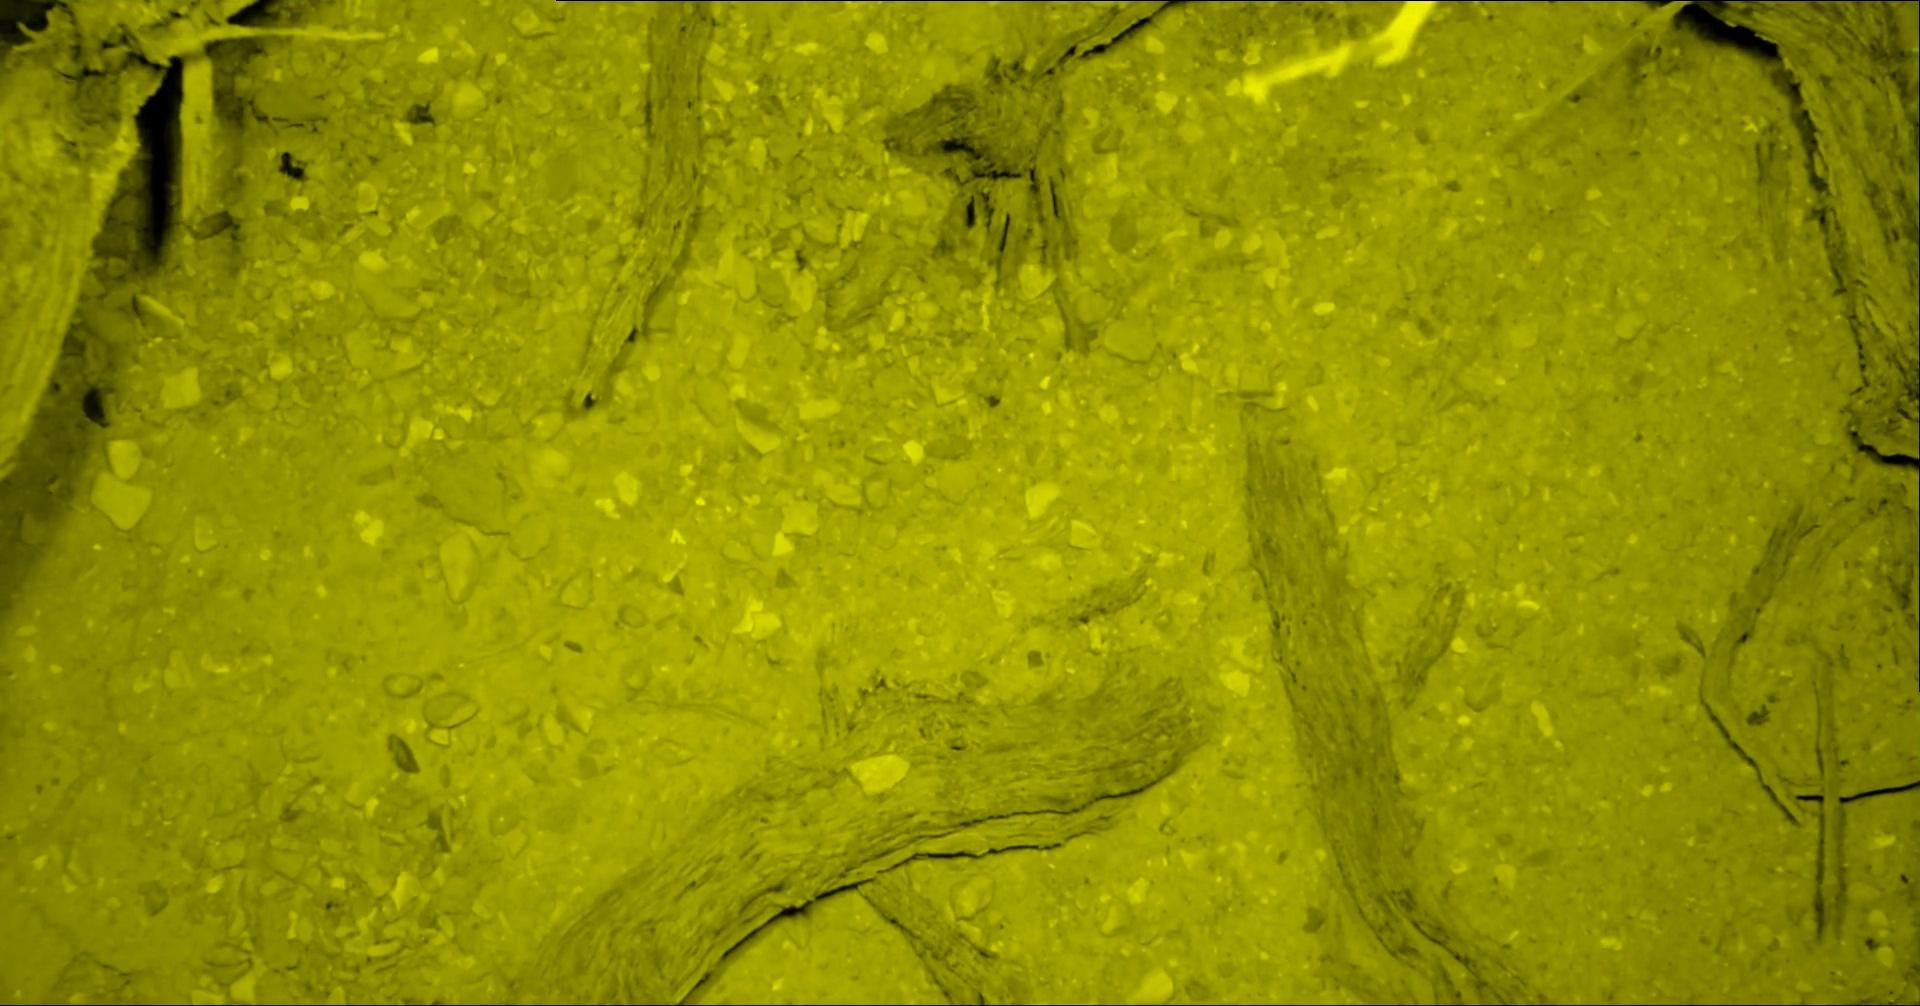ant: (1801, 0, 1920, 9)
